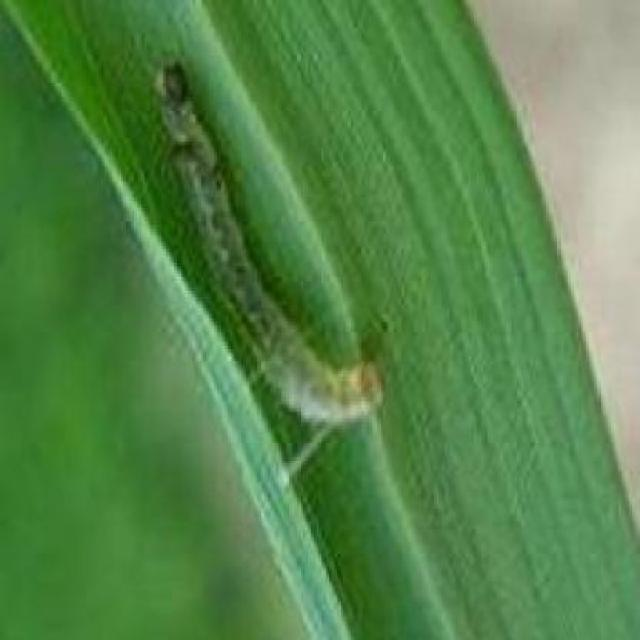leaf-folder: (132, 52, 418, 473)
